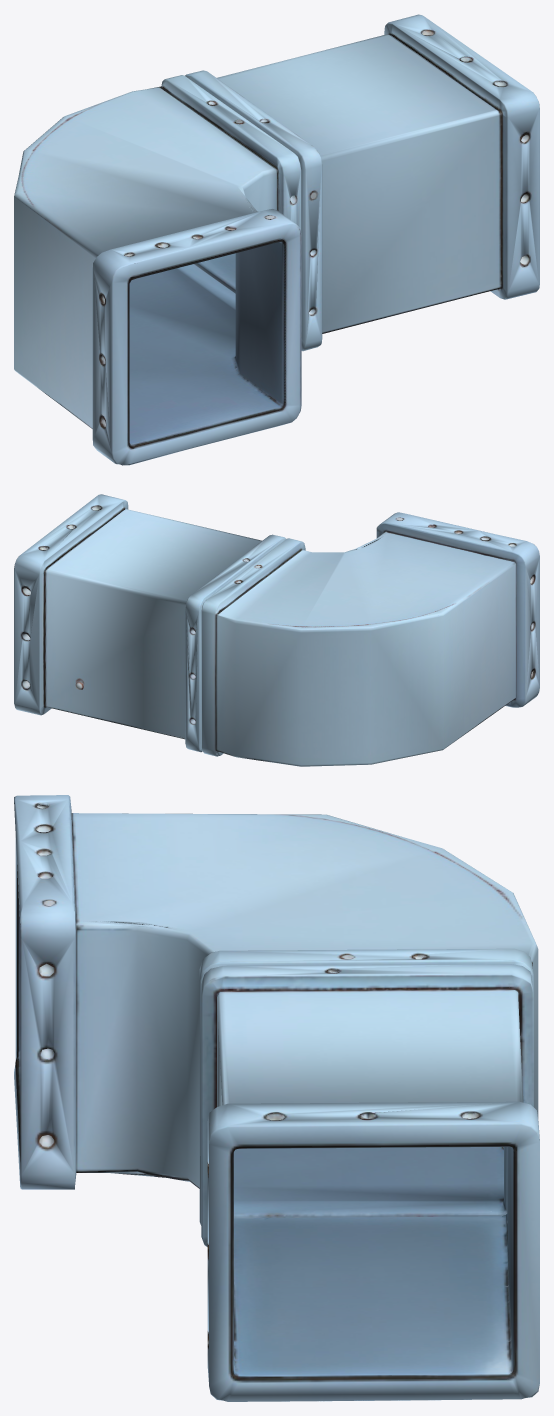
3 views of the same model, one above another, from view 1: azimuth 30°, elevation 25°; view 2: azimuth 150°, elevation 25°; view 3: azimuth 270°, elevation 25° (orthographic). The views are drawn at different scales.
Parts seen in each view (by area): view 1: tripo_node_85259247; view 2: tripo_node_85259247; view 3: tripo_node_85259247.
Boxes of the visible parts, <box> form: tripo_node_85259247: <box>14,14,539,465</box>; tripo_node_85259247: <box>14,494,539,766</box>; tripo_node_85259247: <box>14,795,539,1401</box>.
Size of the model in its own units: 1 by 0.3875 by 0.6595.
